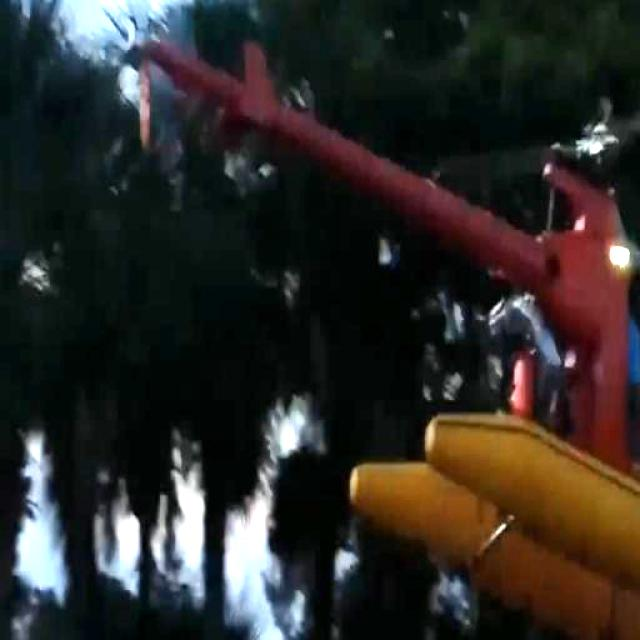drone: (81, 0, 640, 640)
